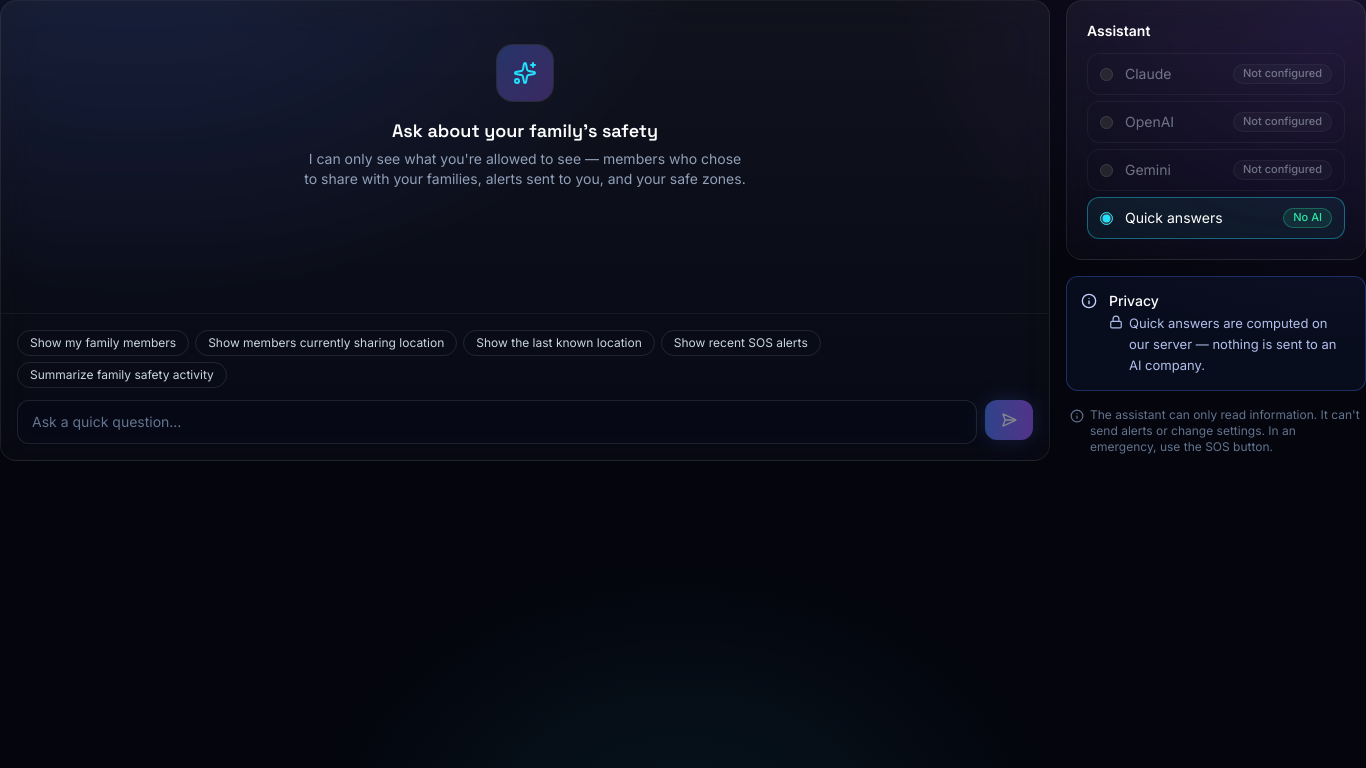
AssistantChat › survives scrollIntoView returning a Promise (Chromium) and shows the answer
Click the button "Show the last known location": (559, 343) x1=463 y1=330 x2=655 y2=356
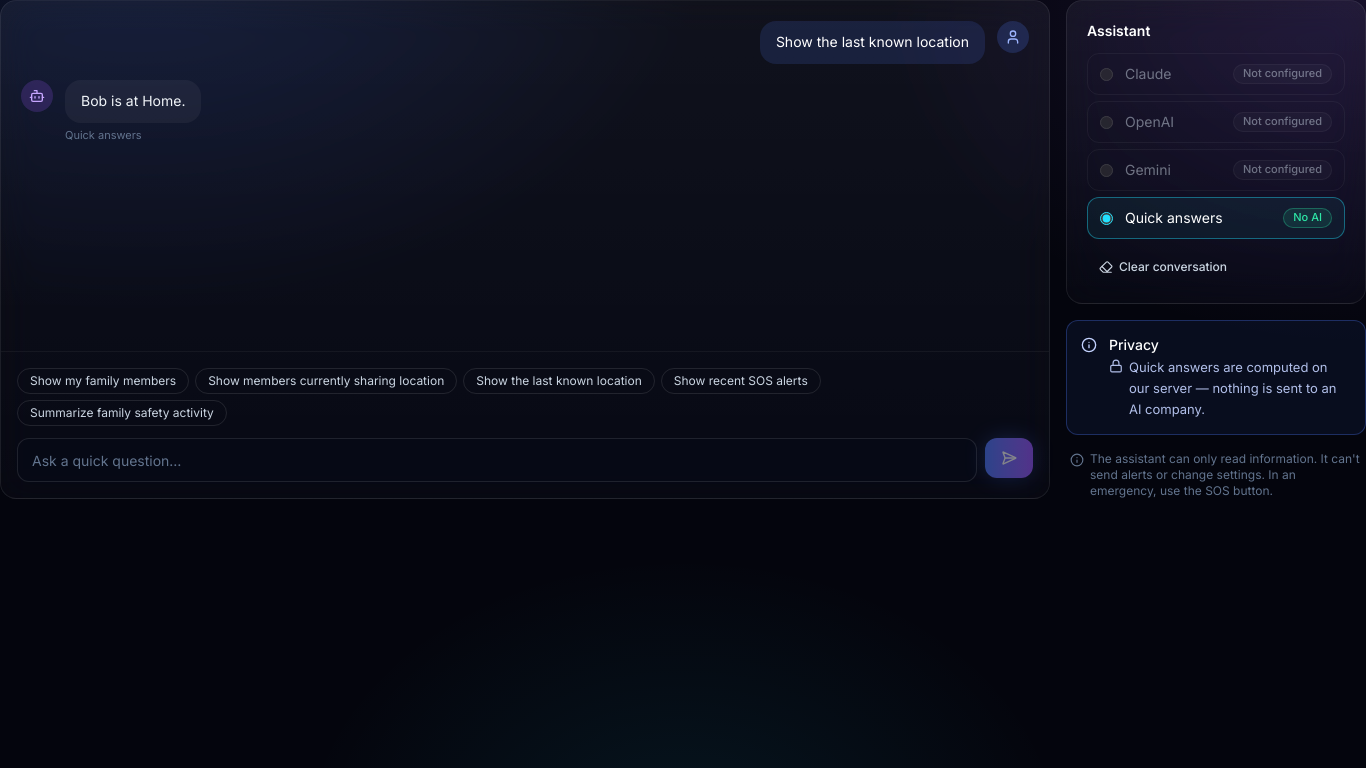
Check: the text "Bob is at Home." is shown, box x1=65 y1=80 x2=201 y2=123
Click the button "Show my family members": (103, 381) x1=17 y1=368 x2=189 y2=394
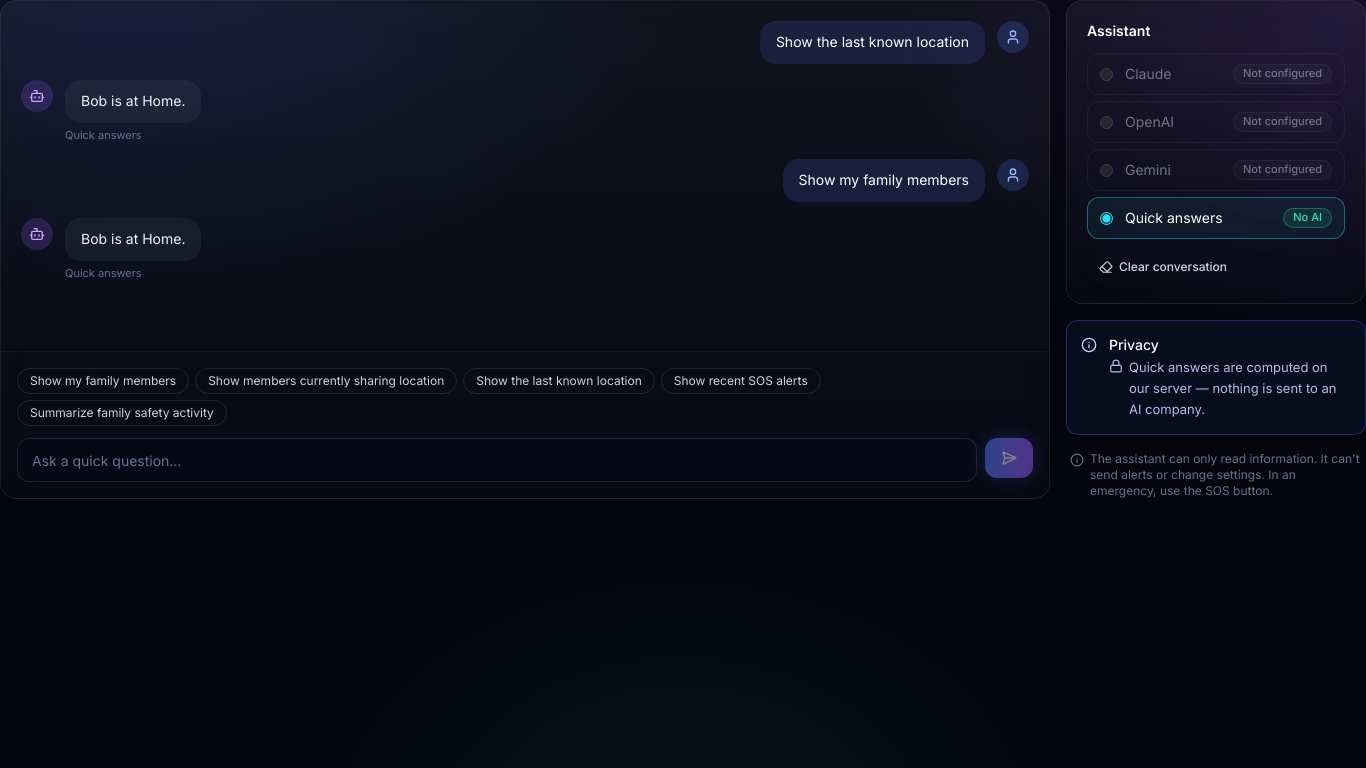
Check: the number of elements with test id "turn-assistant" is 2, box x1=21 y1=80 x2=201 y2=142; x1=21 y1=218 x2=201 y2=280
